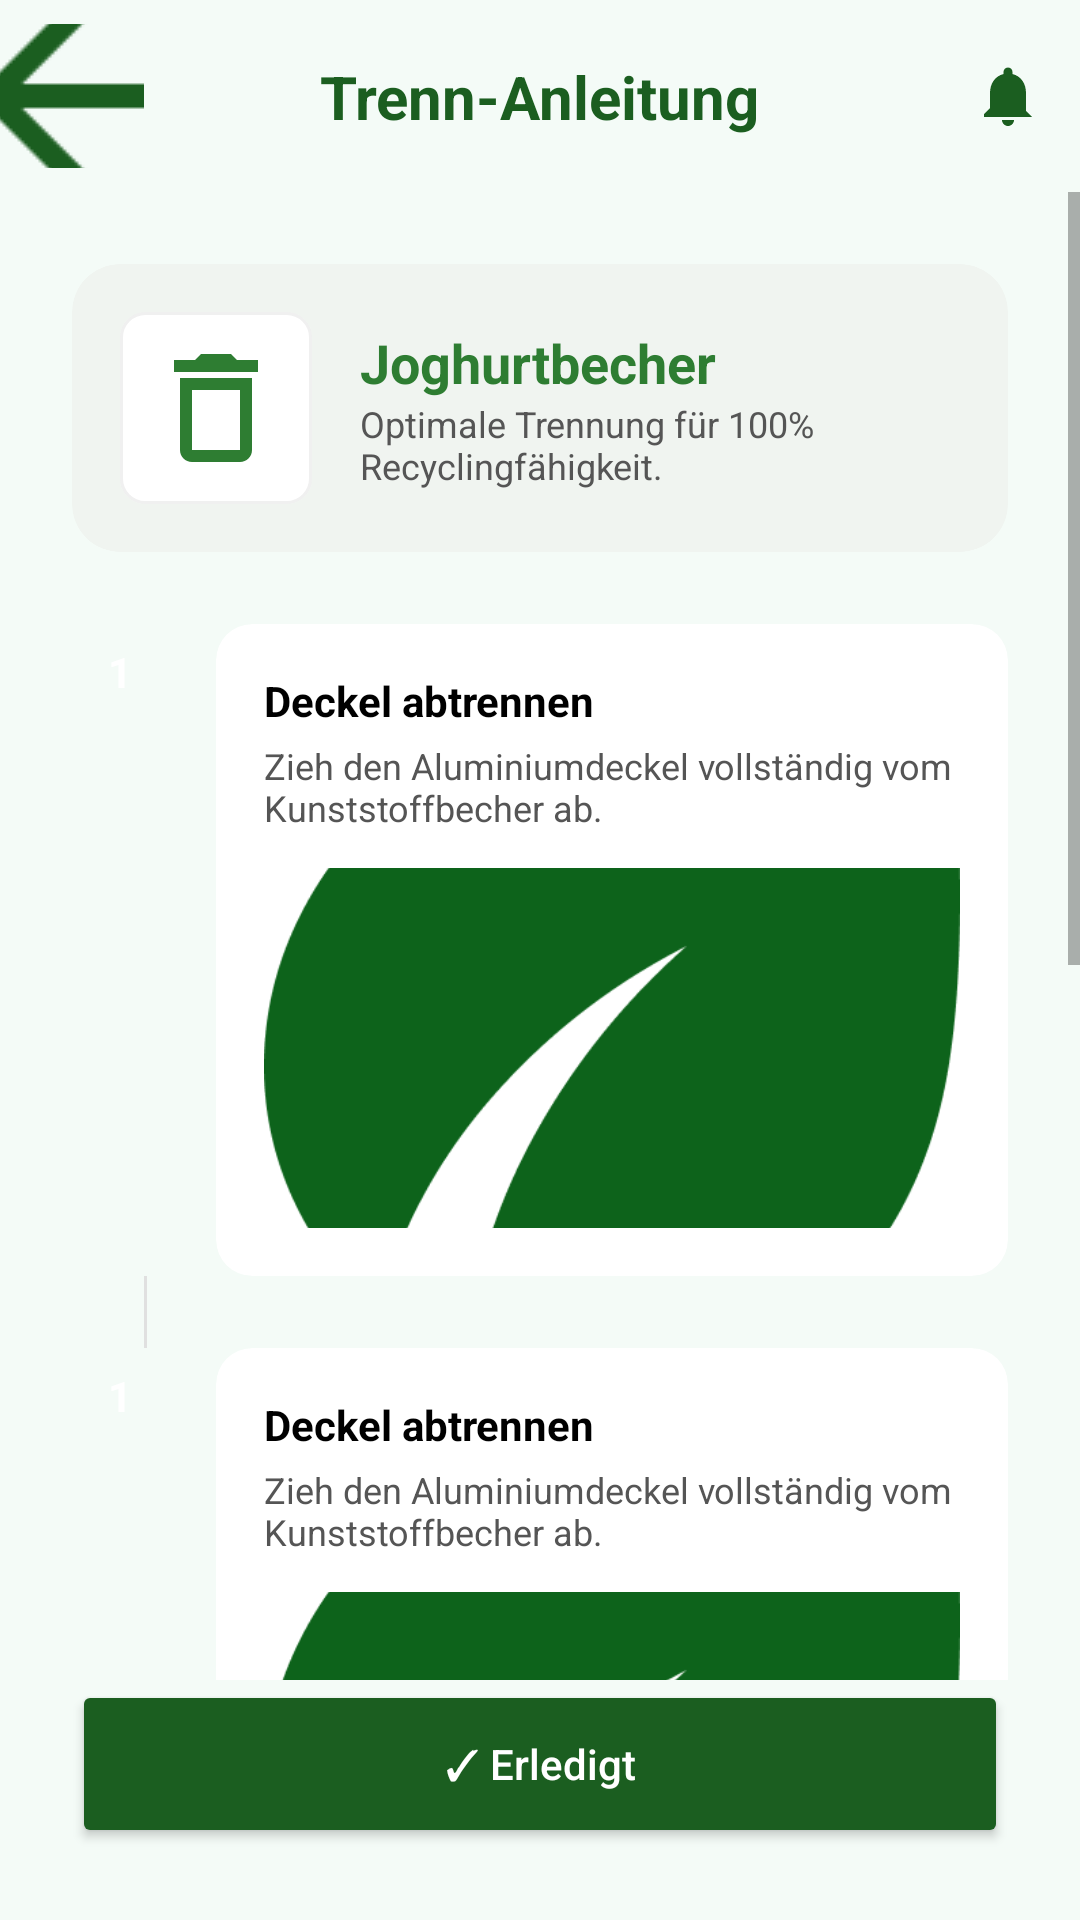

Screen size 1080 × 1920. Icon name, then its center in pixels as (x,y):
back arrow: (72,96)
notifications: (1008,96)
